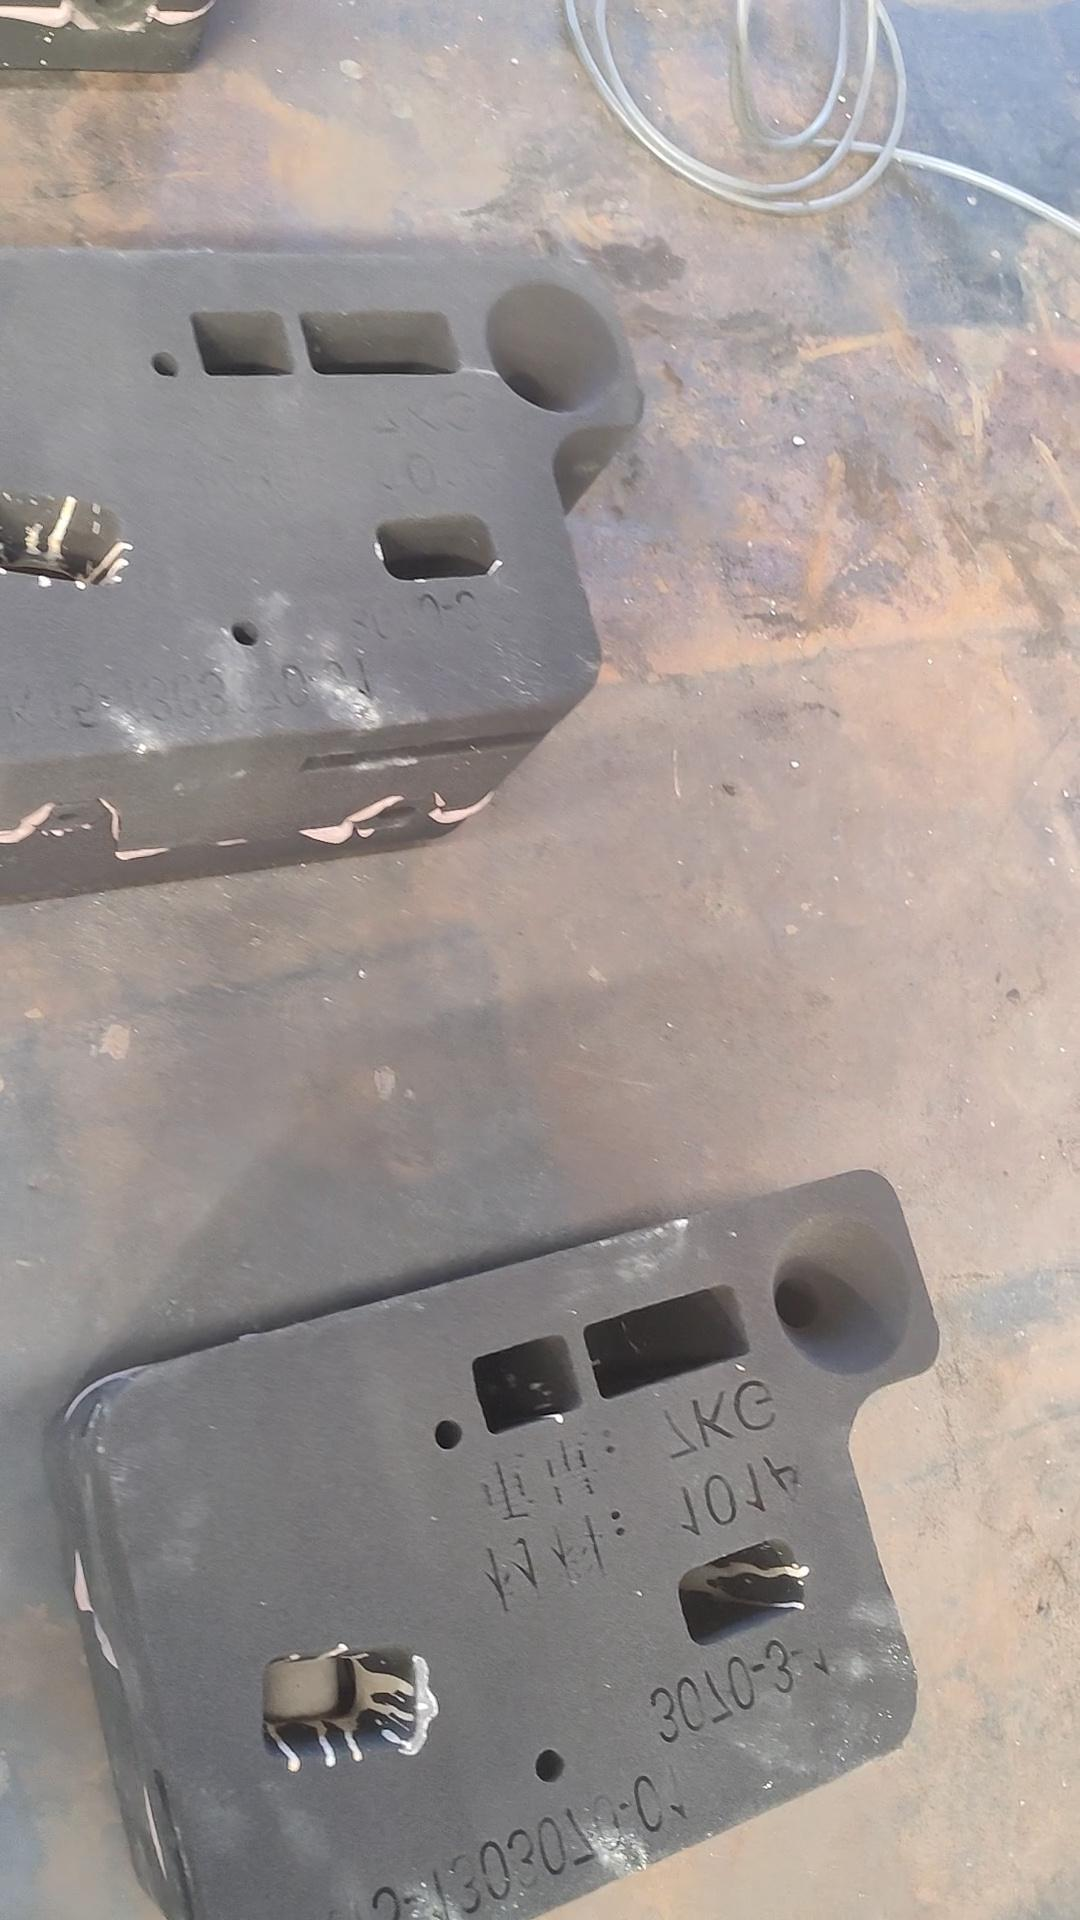pouring hole: (767, 1211, 918, 1375), (484, 280, 624, 415)
